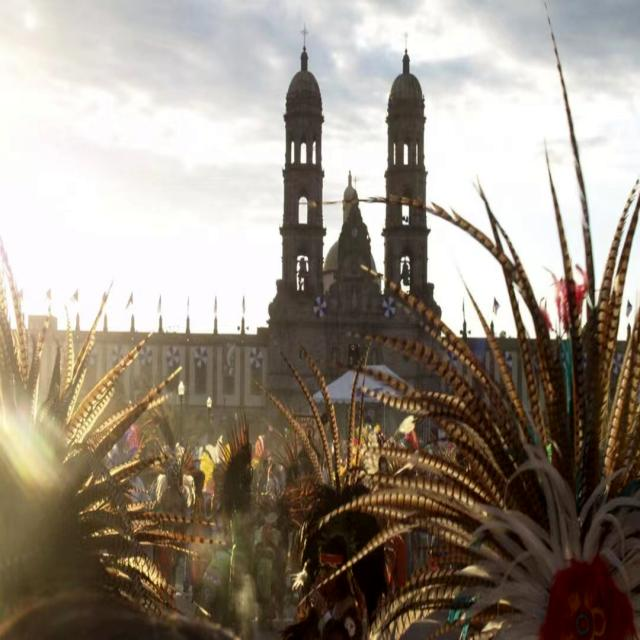Reeves-s Pheasant: (243, 4, 640, 640), (0, 215, 256, 640)
